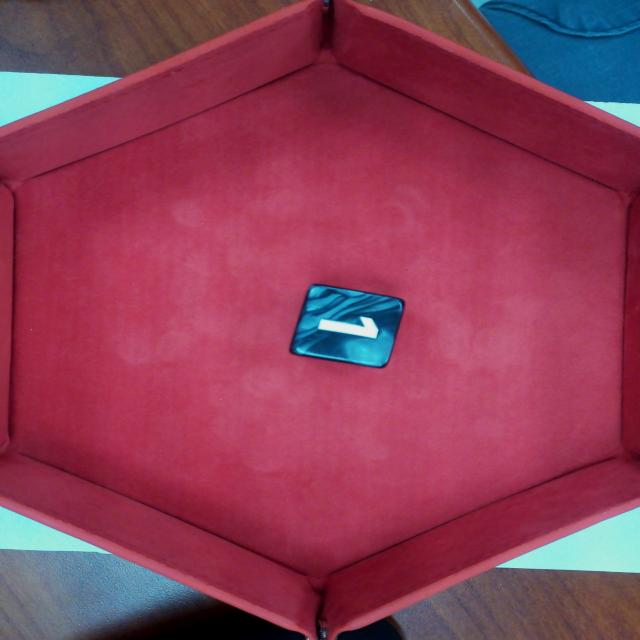dice: (288, 283, 407, 370)
